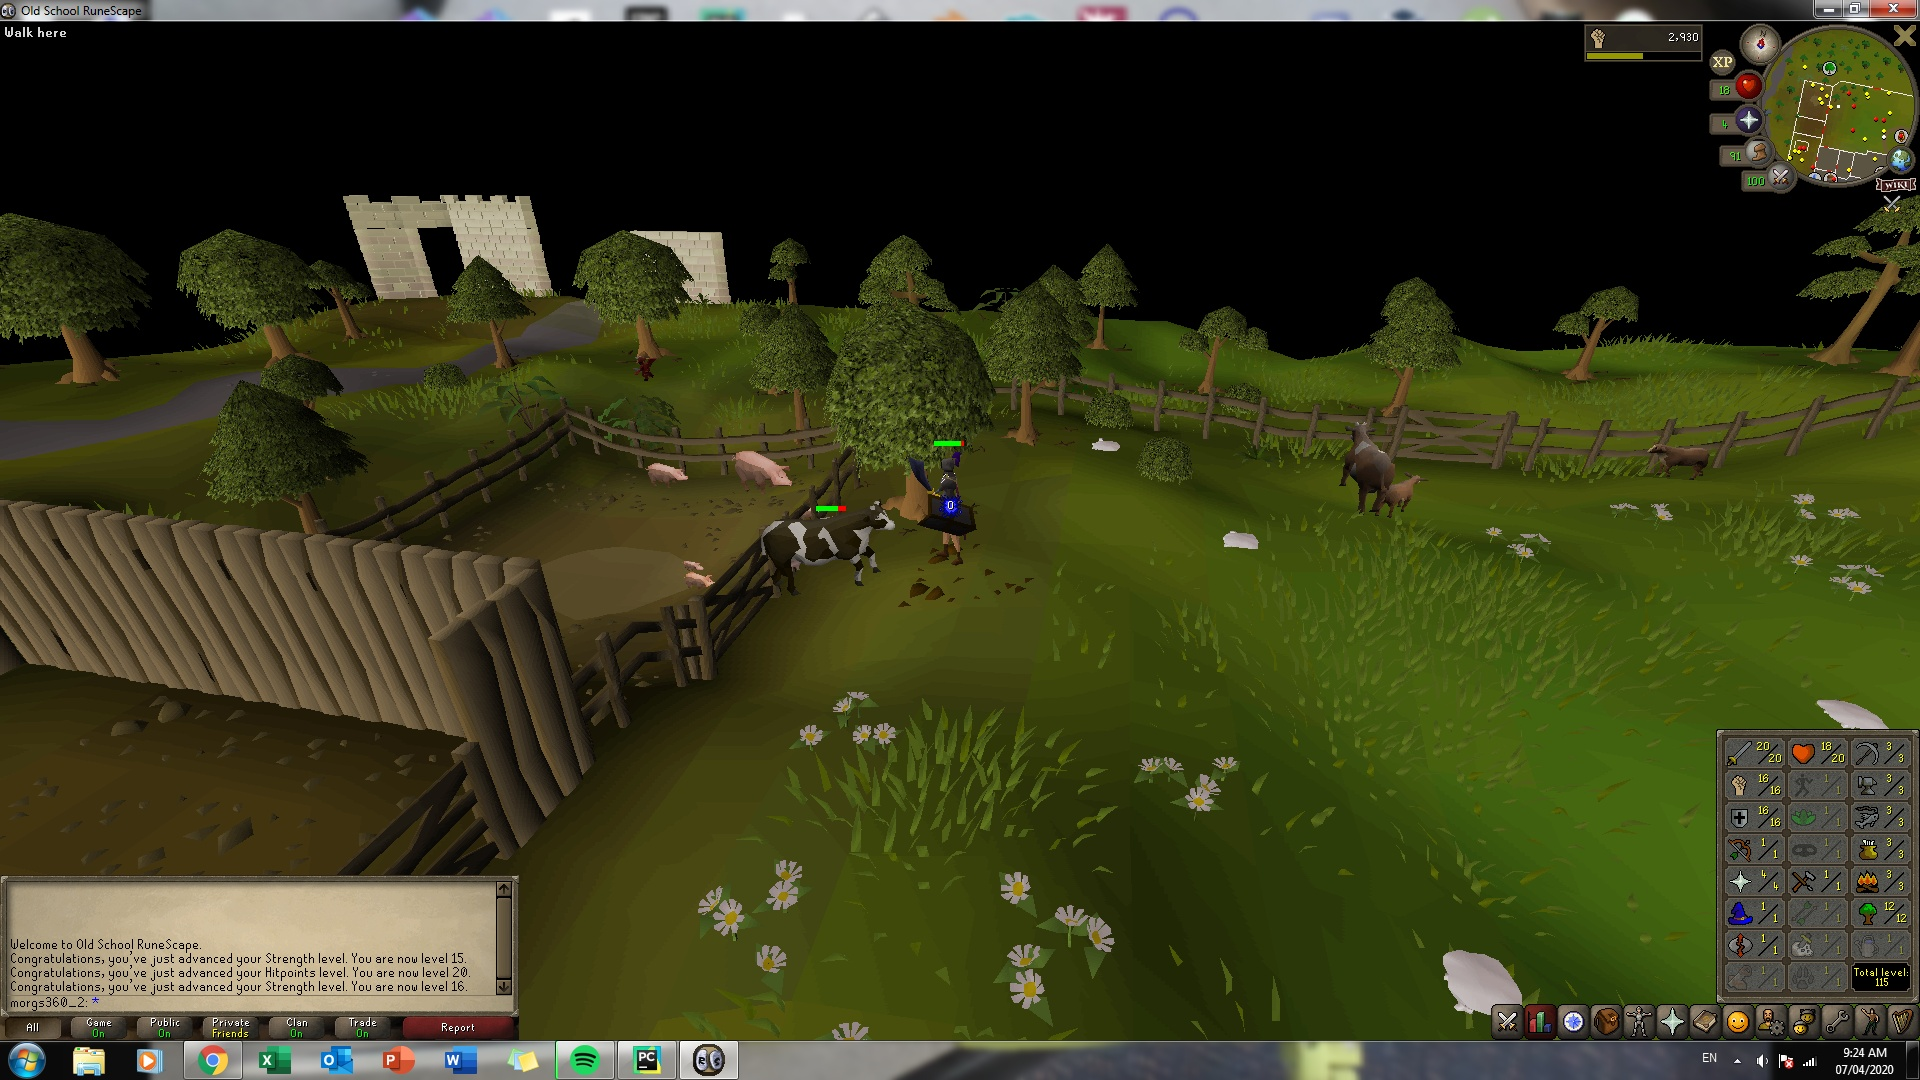cow: (757, 506, 898, 600), (1336, 419, 1396, 521)
